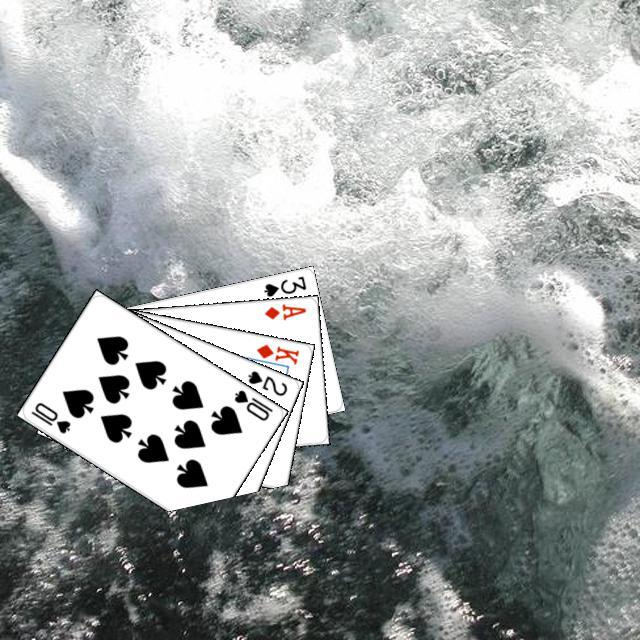10s: (229, 385, 275, 423), (26, 397, 72, 435)
2s: (243, 365, 289, 398)
3s: (259, 271, 308, 299)
Ad: (259, 299, 308, 322)
Kd: (252, 339, 301, 366)
